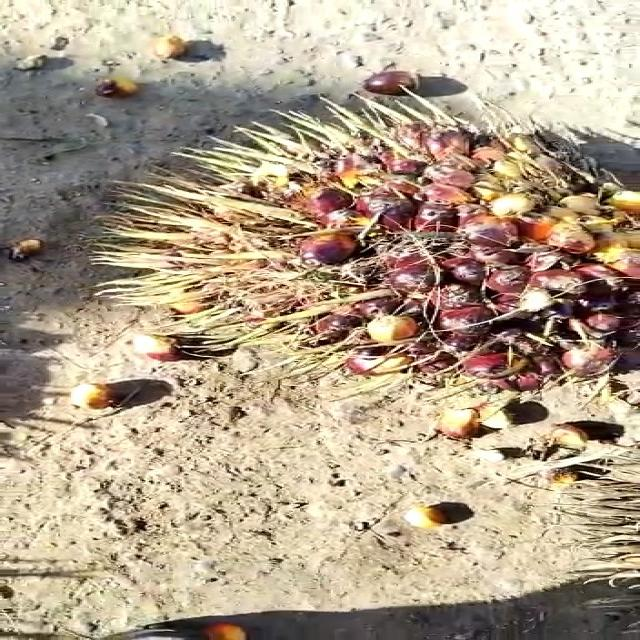palm oil: (110, 87, 640, 407)
